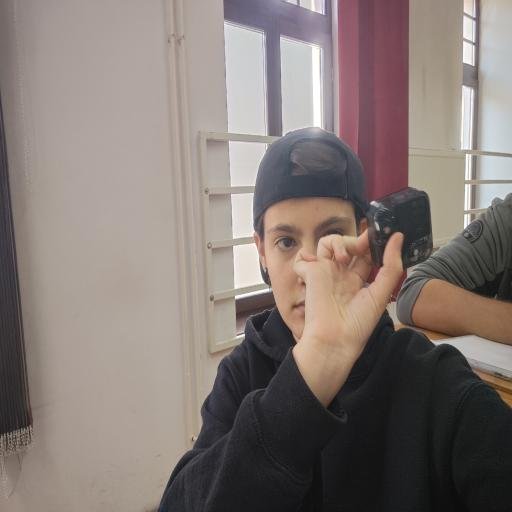CASTI: (364, 186, 436, 272)
